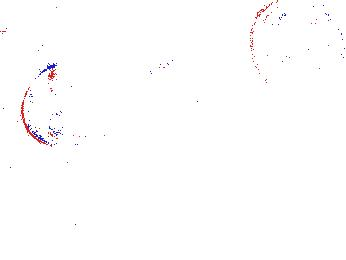moon jellyfish: (251, 1, 346, 96), (107, 1, 214, 54), (21, 63, 85, 148), (25, 1, 130, 51)
